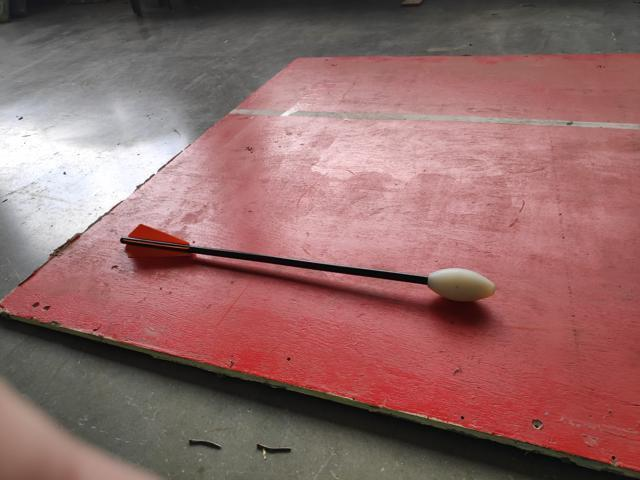Head: (425, 264, 499, 305)
Tail: (117, 222, 193, 258)
